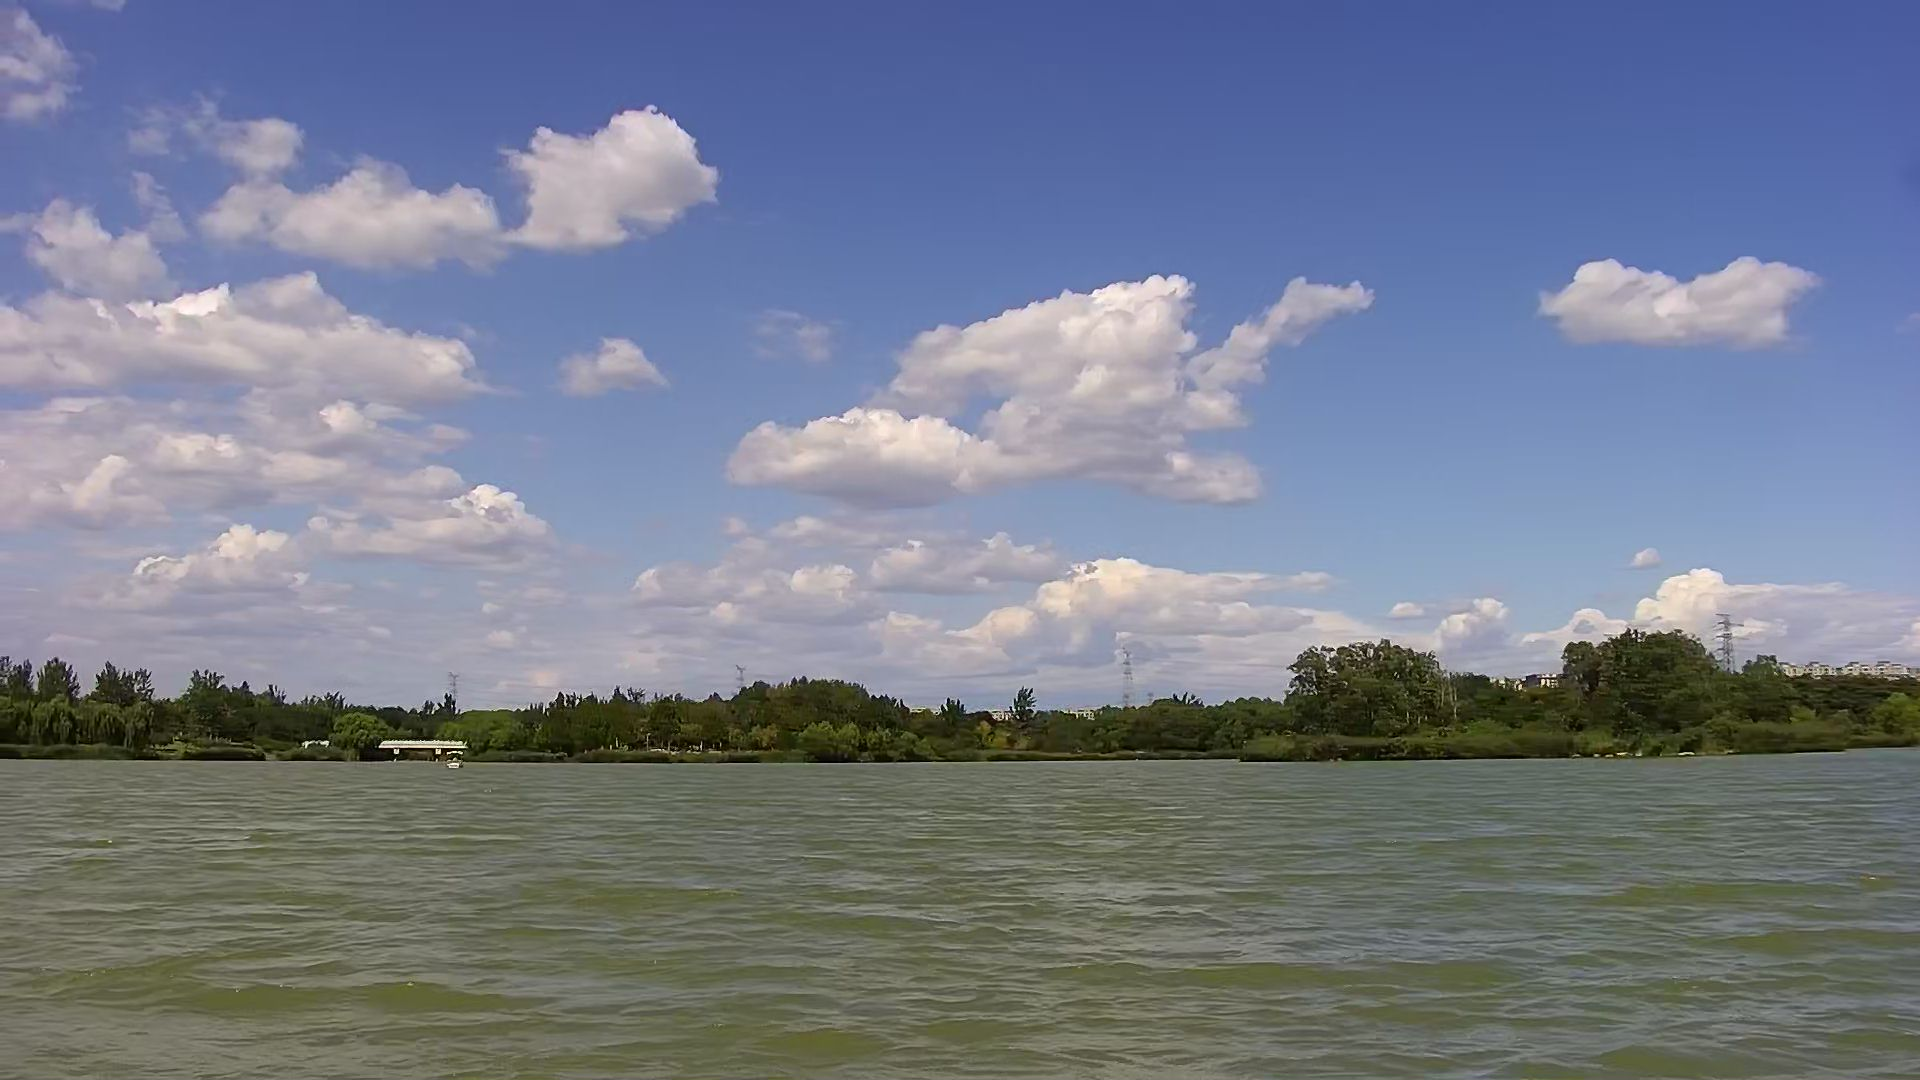bridge: (371, 735, 471, 762)
